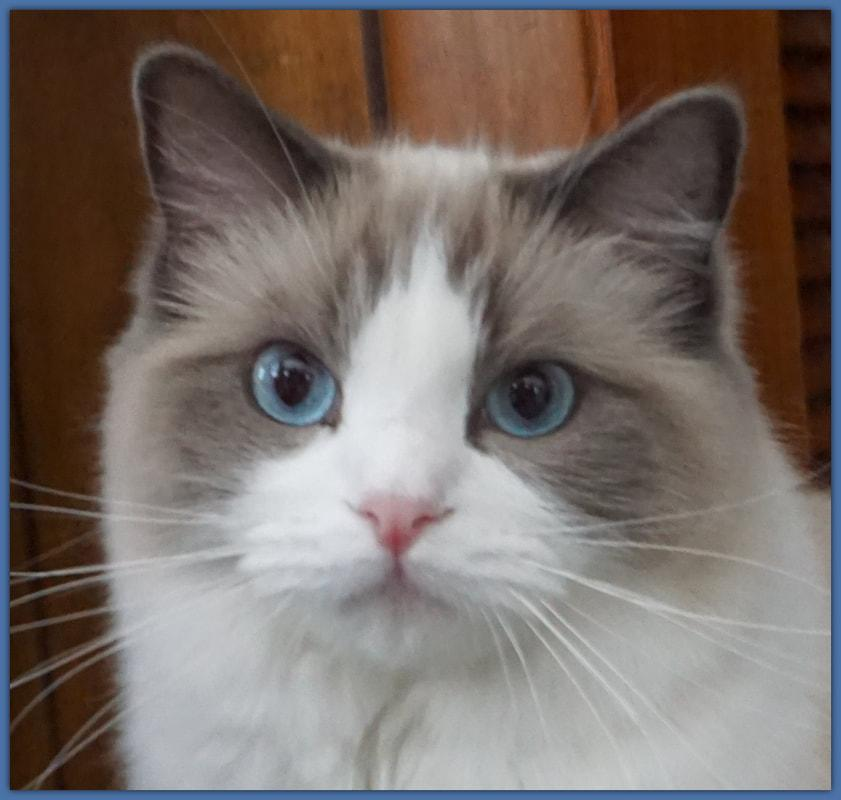ragdoll: (86, 18, 784, 690)
